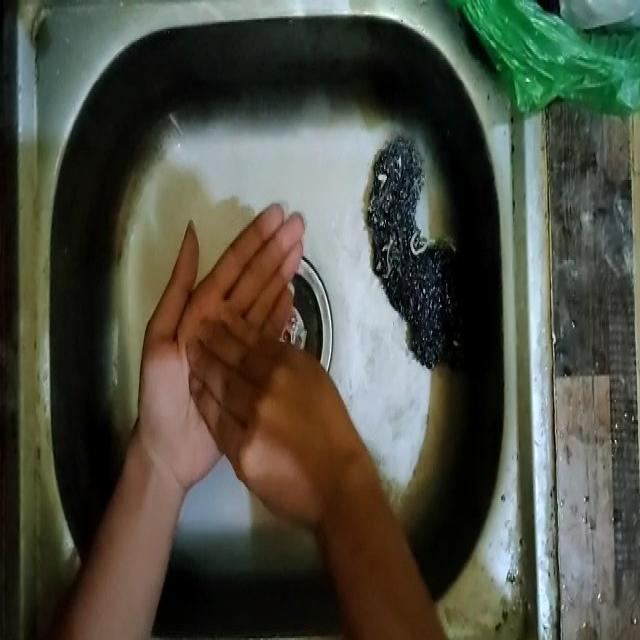step_6: (140, 188, 346, 520)
